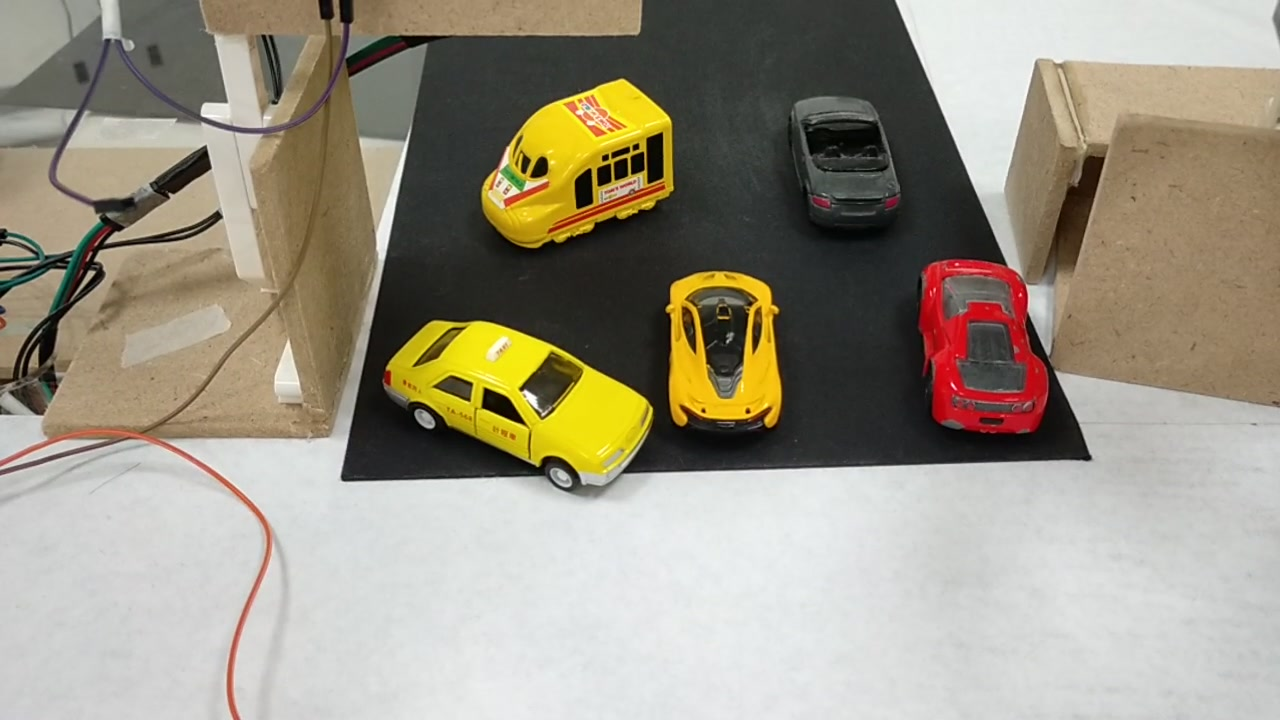car: (379, 308, 652, 497), (918, 253, 1052, 439), (667, 276, 783, 436), (785, 96, 901, 226)
